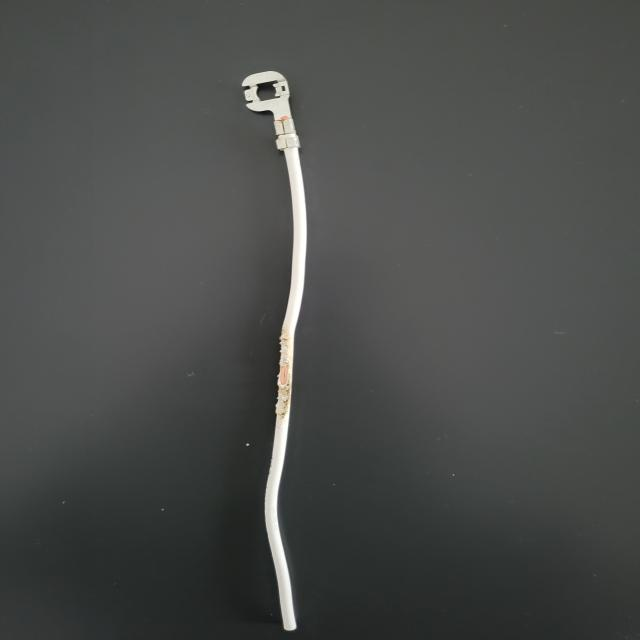defect: (233, 314, 340, 425)
